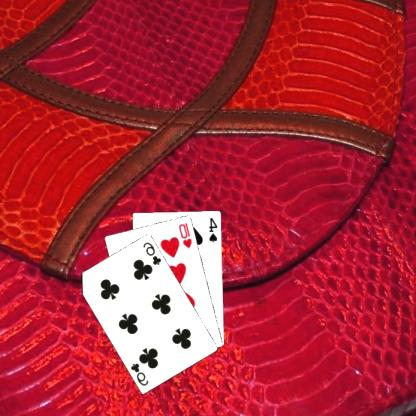10H: (178, 220, 195, 249)
4S: (208, 214, 221, 244)
6C: (142, 239, 164, 266), (130, 360, 152, 387)
